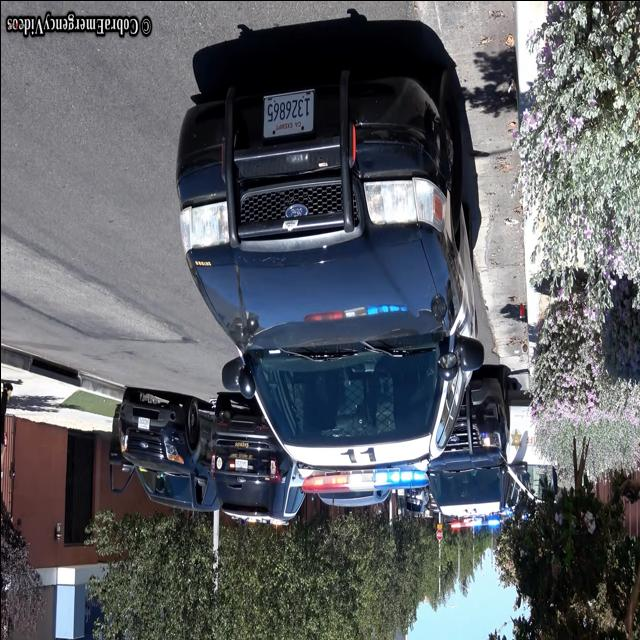emergency-vehicles: (164, 64, 500, 492), (414, 375, 524, 537)
